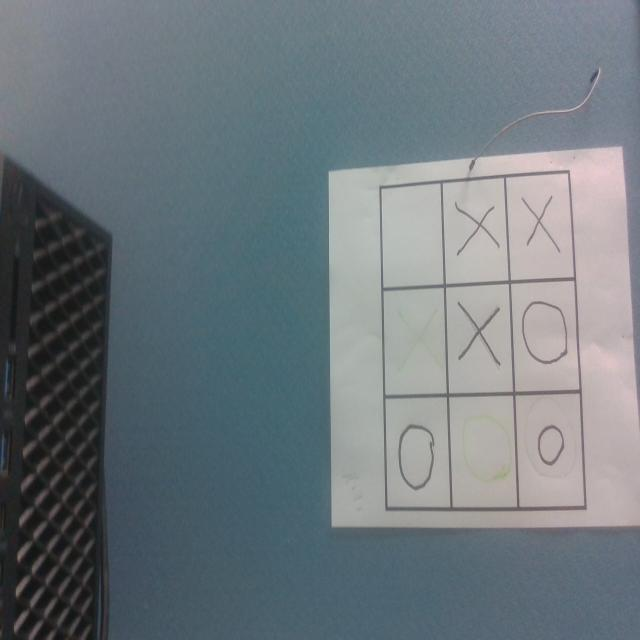null: (382, 183, 442, 289)
o: (462, 412, 515, 483), (522, 299, 568, 365), (398, 423, 434, 490), (537, 423, 565, 465)
table: (382, 169, 584, 512)
x: (396, 304, 442, 378), (458, 301, 501, 369), (453, 202, 500, 259), (522, 196, 561, 254)
